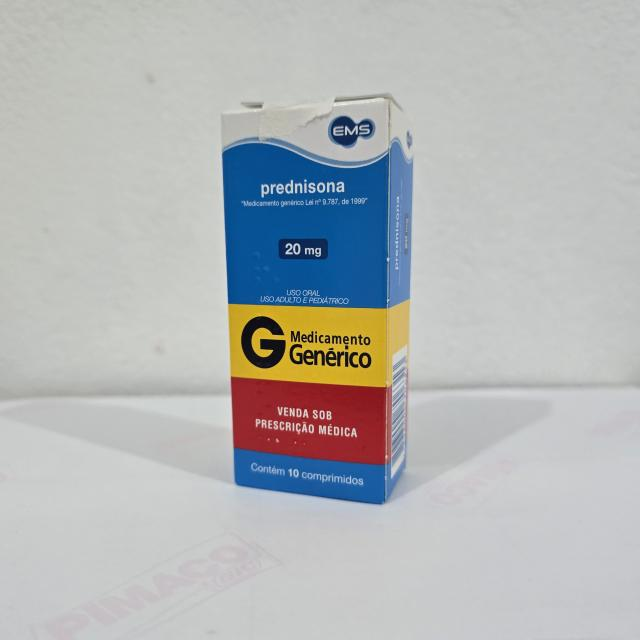prednisona: (214, 89, 413, 509)
